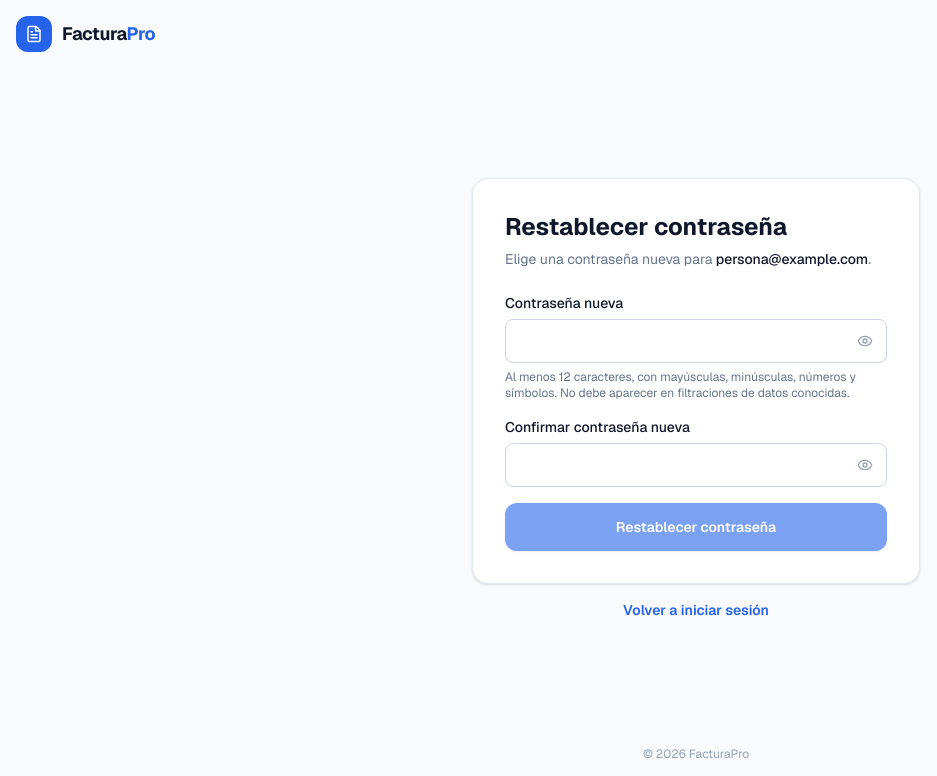
Scenario: /restablecer-contrasena (Fase 6.32, D2) › un enlace vencido o ya usado pide uno nuevo
Type "Nueva-Segura-2026!" into the password field labelled "Contraseña nueva" at (696,341), box [505, 319, 887, 363]
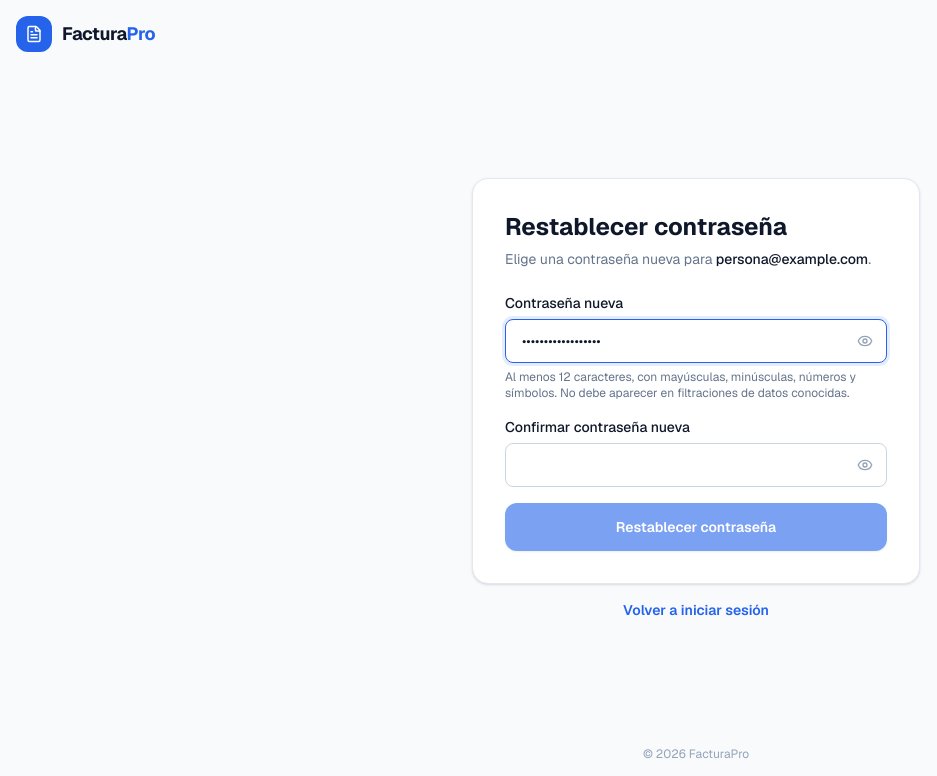
Type "Nueva-Segura-2026!" into the password field labelled "Confirmar contraseña nueva" at (696,465), box [505, 443, 887, 487]
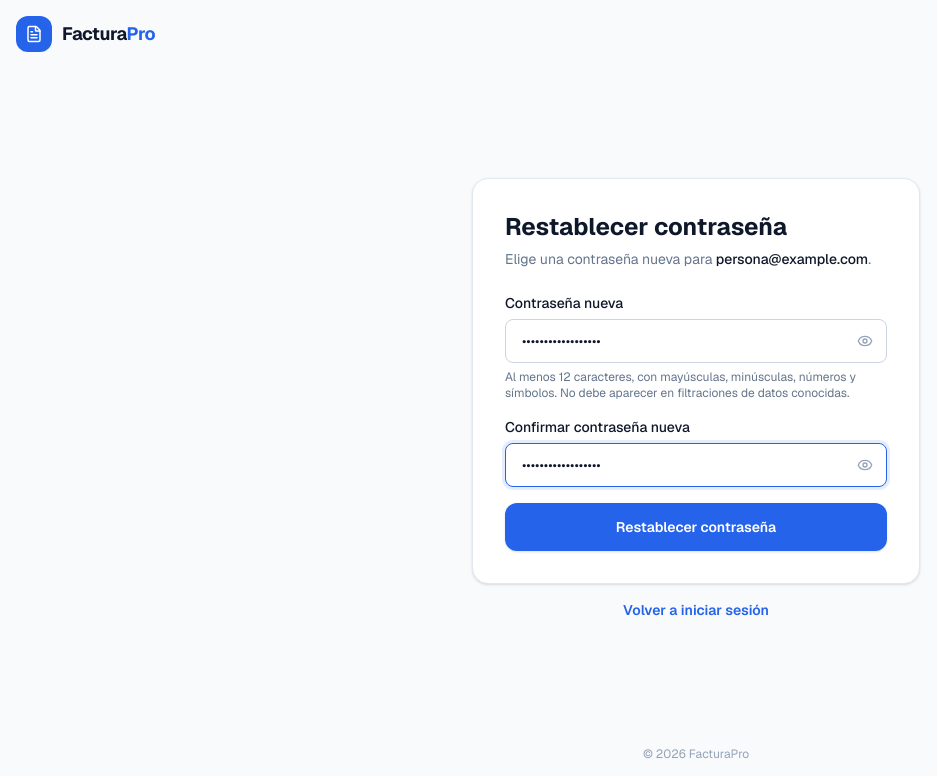
Click the button "Restablecer contraseña" at (696,527), box [505, 503, 887, 551]
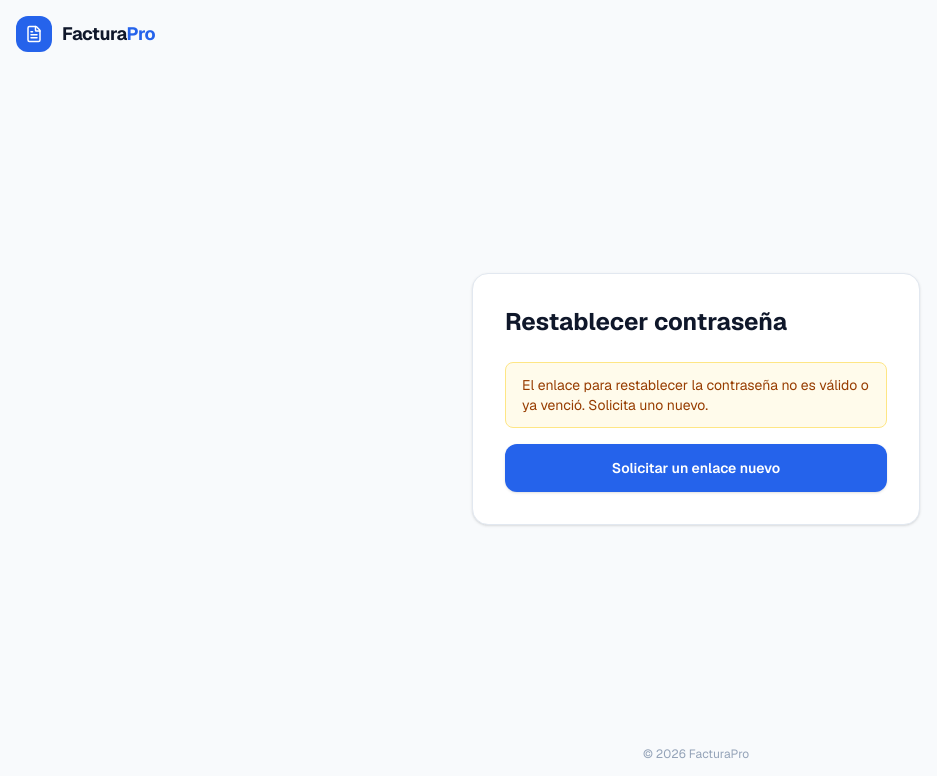
Check: the message shows "no es válido o ya venció", box [522, 376, 869, 414]
